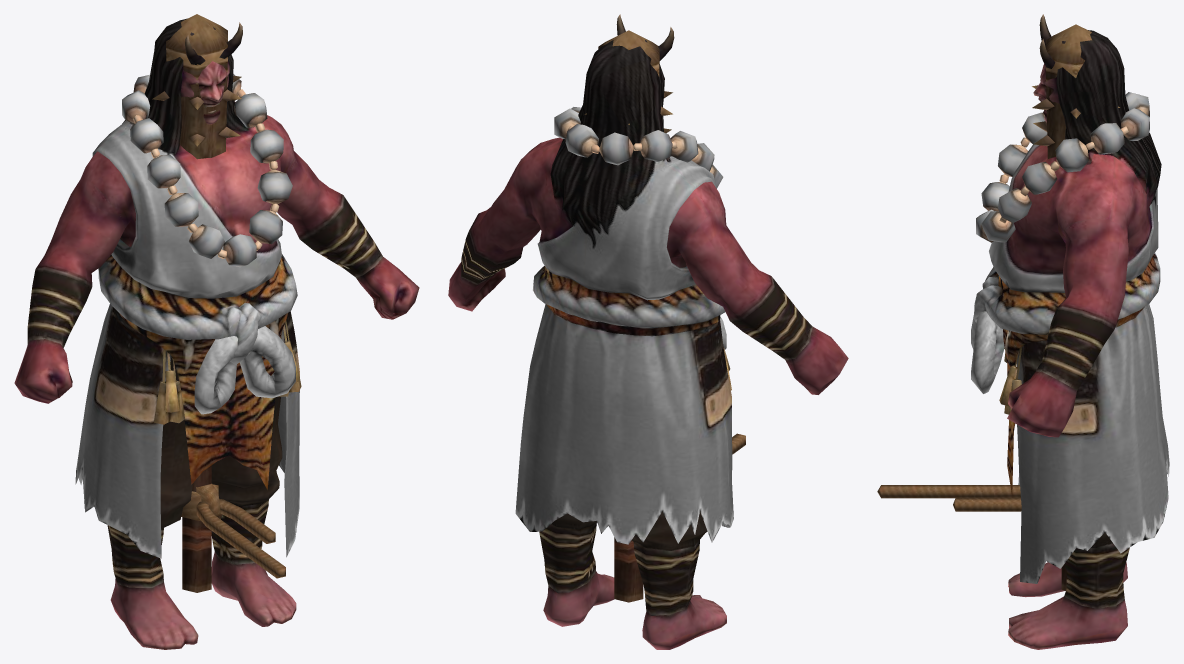
The model's file is 132-oni.glb.
3 views of the same model, side by side, from view 1: azimuth 30°, elevation 25°; view 2: azimuth 150°, elevation 25°; view 3: azimuth 270°, elevation 25° (orthographic).
Bounding box in the file's own units: 3.27 × 4.77 × 2.13.
2 materials, 2 textured.
